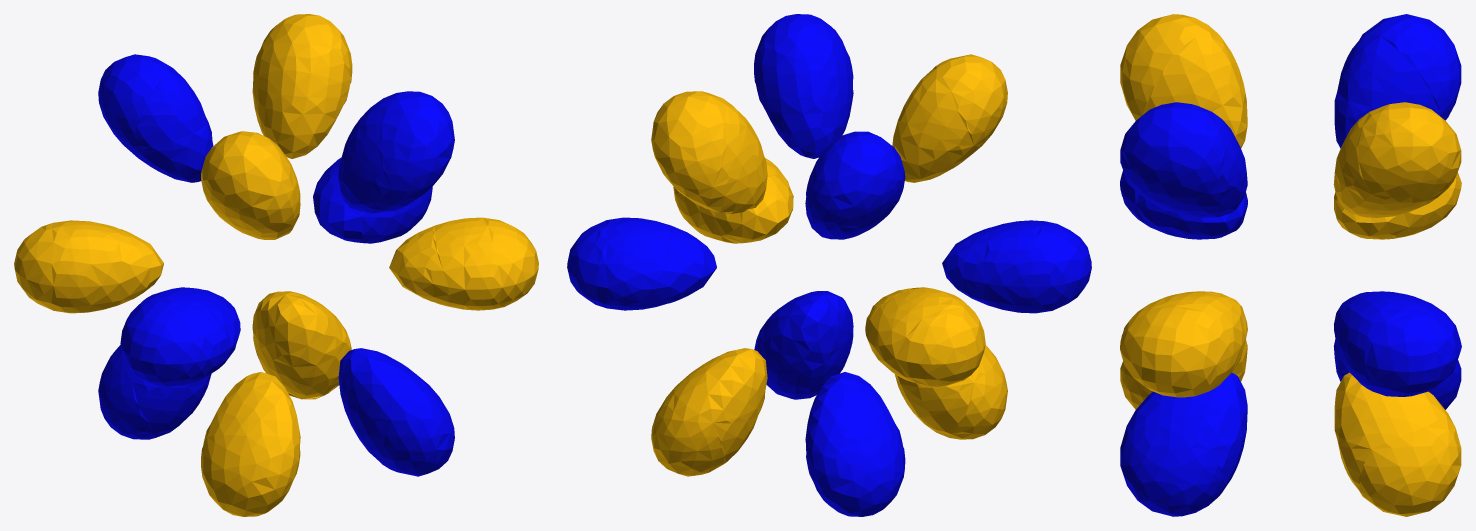
3 renders of one model, left to right at view 1: azimuth 30°, elevation 25°; view 2: azimuth 150°, elevation 25°; view 3: azimuth 270°, elevation 25°, orthographic. The views are drawn at different scales.
Size of the model in its own units: 28.06 by 24.94 by 19.02.
